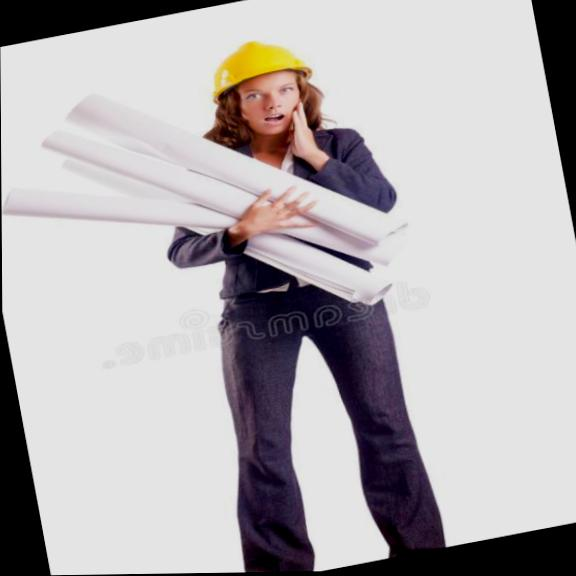no_safety_vest: (130, 117, 404, 340)
